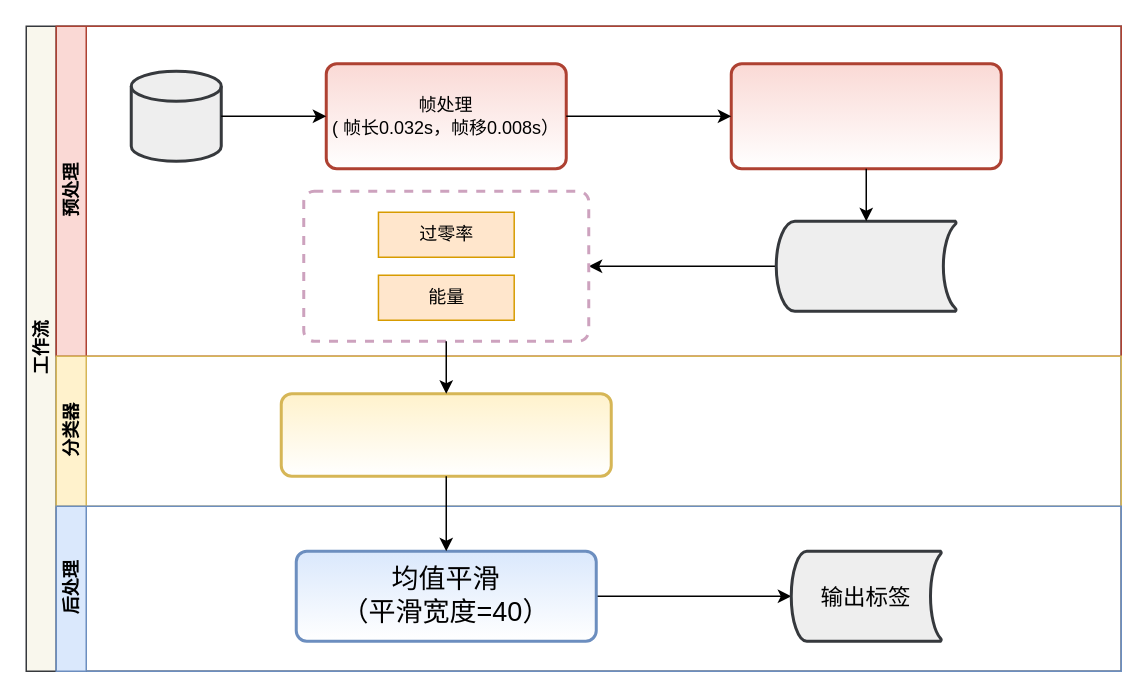
Image size: 1148x698. Some labels were removed from this diagram. Here are the shapes that lost their labels. From the top down, the centre of each, then its label:
(x=175, y=115): 数据集
(x=865, y=116): 汉明窗 （预加重系数0.97）
(x=865, y=265): 帧数据
(x=445, y=434): 阈值状态机
